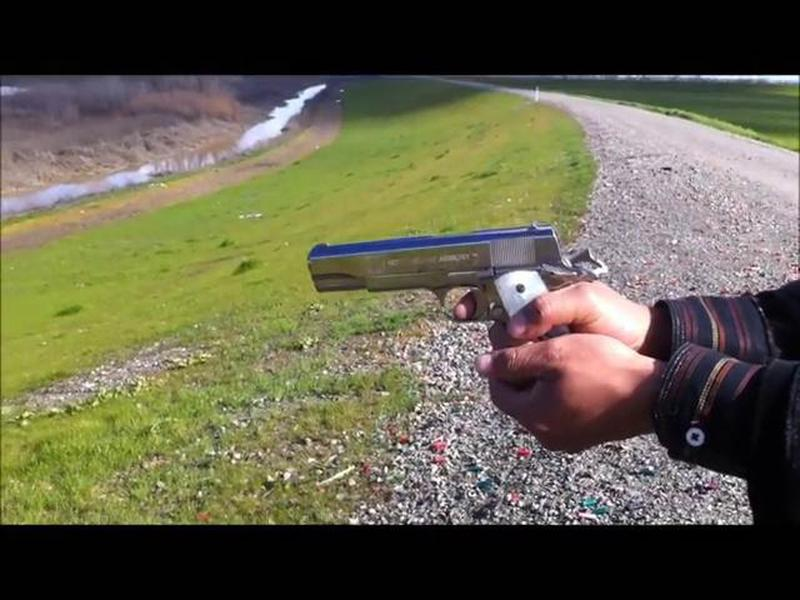Pistola: (286, 175, 610, 435)
